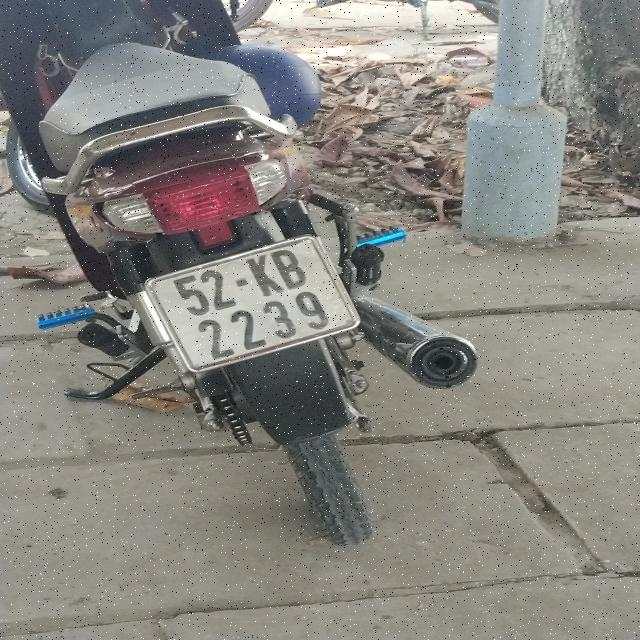2: (195, 318, 232, 362), (232, 309, 265, 349)
3: (264, 300, 297, 340)
5: (174, 276, 211, 317), (203, 269, 234, 312)
9: (296, 290, 335, 335)
B: (271, 247, 308, 290)
K: (244, 255, 282, 296)
